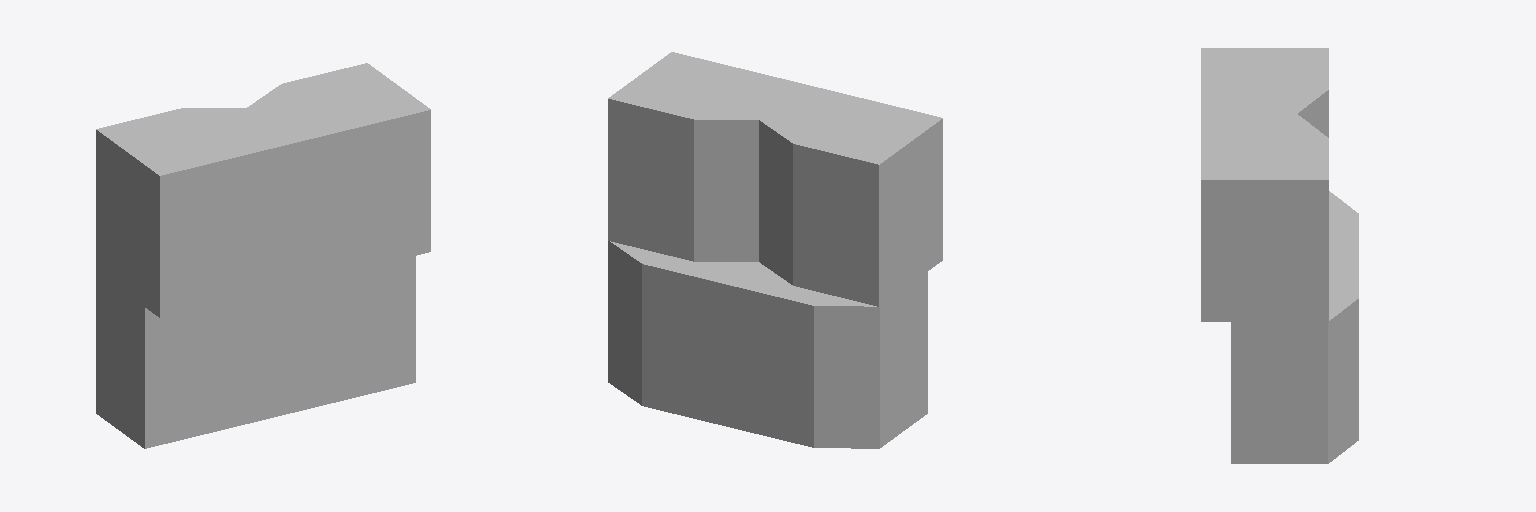
Rendered from mylandscaping_block1_middle_bot.obj.
3 renders of one model, left to right at view 1: azimuth 30°, elevation 25°; view 2: azimuth 150°, elevation 25°; view 3: azimuth 270°, elevation 25°, orthographic.
Visible parts, largest first — view 1: Block_Left_Bottom.001_Cube.010; view 2: Block_Left_Bottom.001_Cube.010; view 3: Block_Left_Bottom.001_Cube.010.
Part boxes in pixels (x1,y1,x2,y2): Block_Left_Bottom.001_Cube.010: (96, 63, 430, 448); Block_Left_Bottom.001_Cube.010: (608, 52, 942, 448); Block_Left_Bottom.001_Cube.010: (1201, 48, 1358, 463).
Bounding box in the file's own units: 1 × 1 × 0.5054.